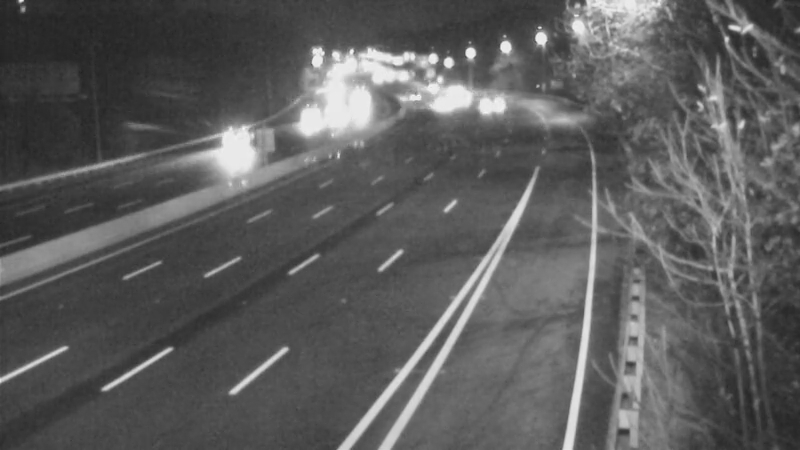vehicle: (387, 70, 437, 120), (436, 73, 486, 123), (412, 78, 462, 128), (464, 81, 514, 131), (209, 124, 259, 174), (278, 93, 328, 143), (310, 83, 360, 133)
